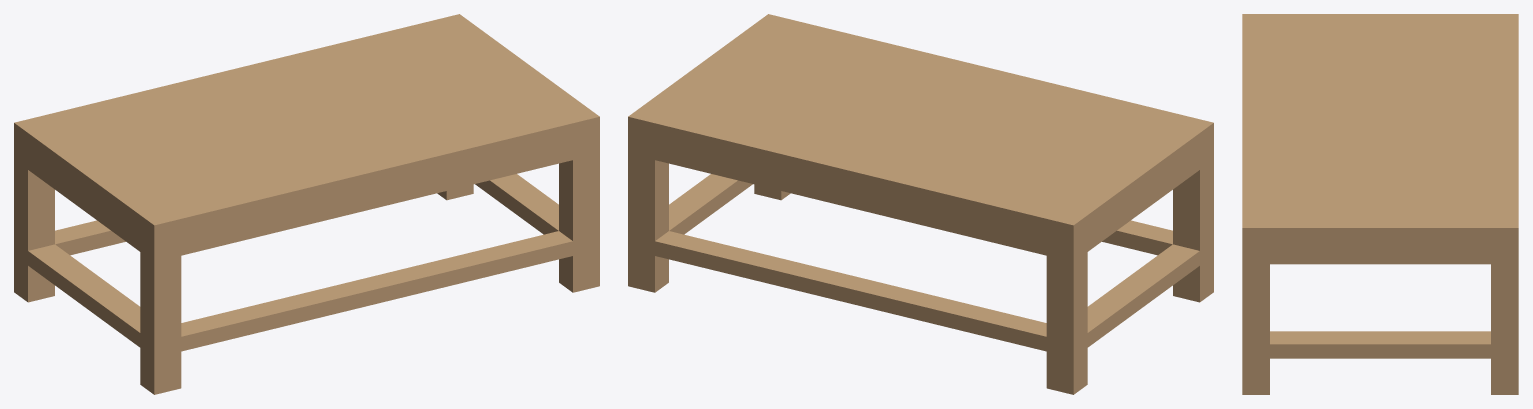
File: table-coffee.glb
3 renders of one model, left to right at view 1: azimuth 30°, elevation 25°; view 2: azimuth 150°, elevation 25°; view 3: azimuth 270°, elevation 25°, orthographic.
Visible parts, largest first — view 1: table-coffee; view 2: table-coffee; view 3: table-coffee.
Boxes of the visible parts, x1,y1,x2,y2 form: table-coffee: (14, 14, 599, 394); table-coffee: (628, 14, 1213, 394); table-coffee: (1242, 14, 1518, 394).
Bounding box in the file's own units: 1.1 × 0.4 × 0.6.
